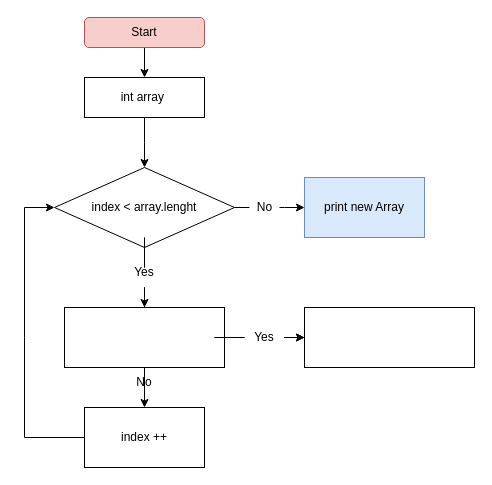
Image size: 492x485. Some labels were removed from this diagram. Each missing label, with the box of its shape:
new Array[number(index)]: (304, 306, 474, 368)
number(index) % 2 = 0: (64, 306, 224, 368)
